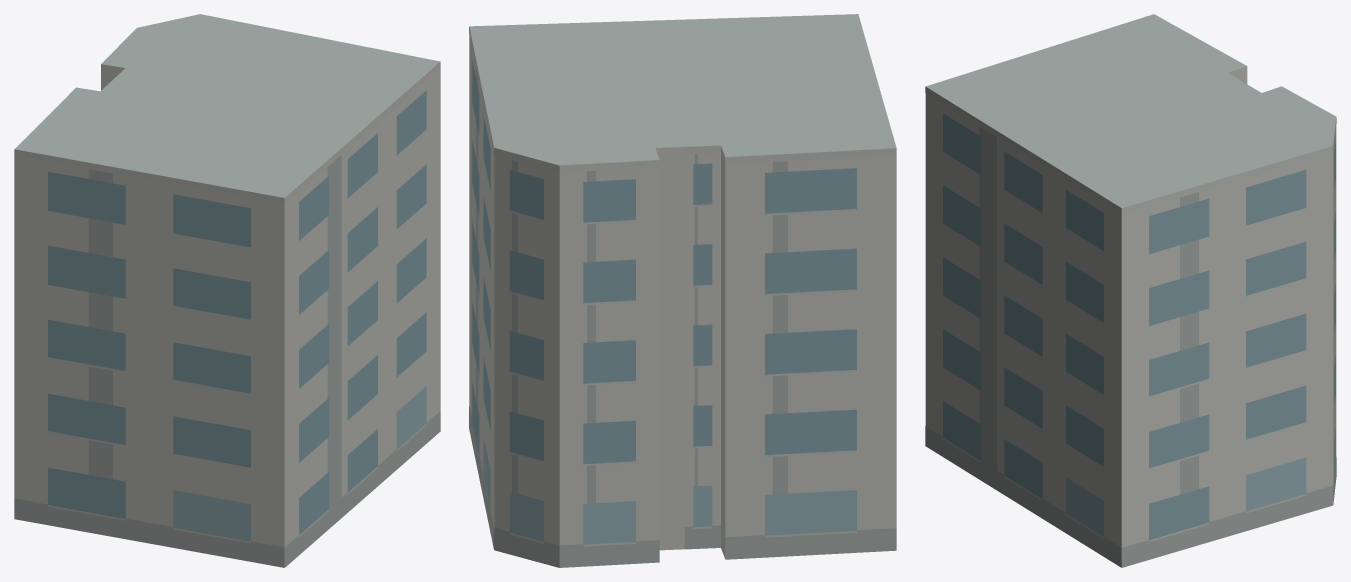
Rendered from survey-upis-32681261.glb.
3 views of the same model, side by side, from view 1: azimuth 30°, elevation 25°; view 2: azimuth 150°, elevation 25°; view 3: azimuth 270°, elevation 25° (orthographic). The views are drawn at different scales.
Parts seen in each view (by area): view 1: survey-upis-32681261.tmp; view 2: survey-upis-32681261.tmp; view 3: survey-upis-32681261.tmp.
Boxes of the visible parts, x1,y1,x2,y2 form: survey-upis-32681261.tmp: (14,14,440,567); survey-upis-32681261.tmp: (469,14,896,567); survey-upis-32681261.tmp: (925,14,1336,567).
Size of the model in its own units: 15.53 by 13.4 by 13.88.
